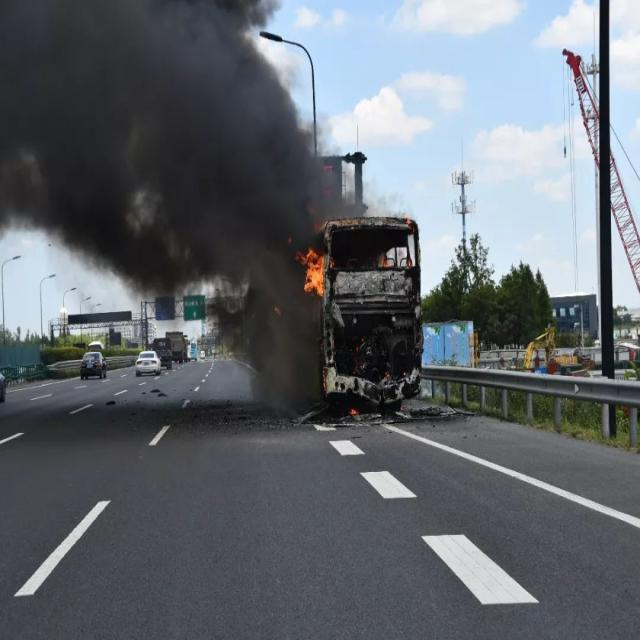Fire: (300, 242, 325, 300)
Smoke: (1, 0, 252, 289), (254, 52, 358, 216), (253, 218, 298, 408)
